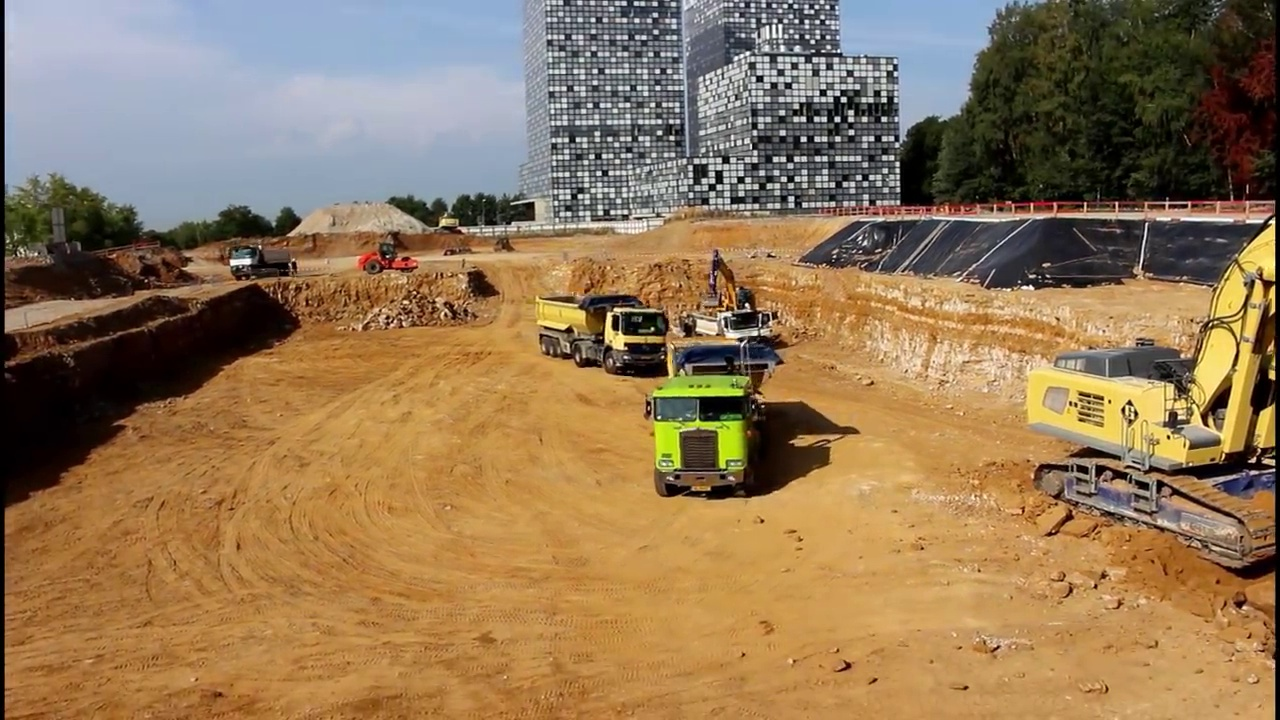compactor: (355, 240, 419, 278)
excavator: (1020, 199, 1280, 582), (696, 251, 765, 340), (433, 209, 464, 233)
truck: (640, 330, 769, 500), (533, 290, 672, 378), (685, 305, 775, 355), (227, 244, 291, 279)
worker: (289, 255, 302, 278)
